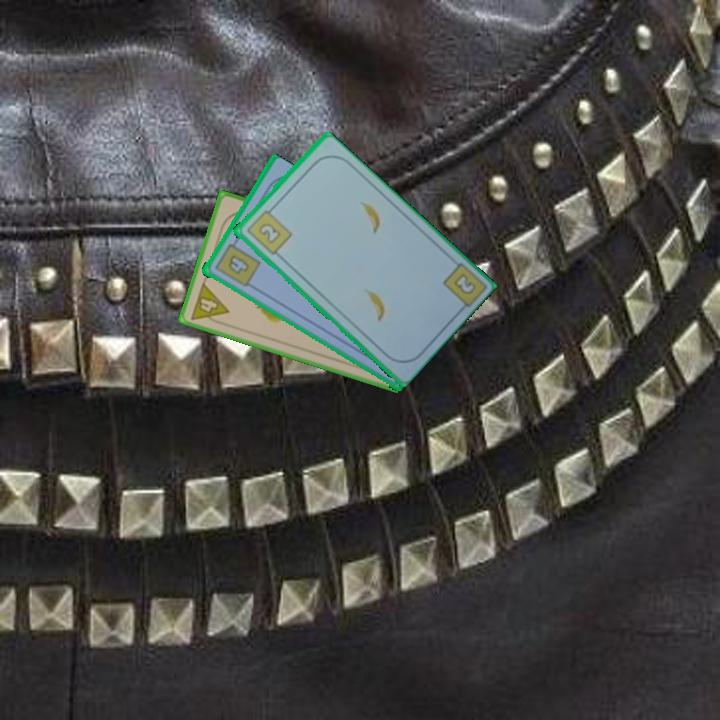2b: (242, 203, 294, 258), (450, 270, 479, 298)
4b: (211, 236, 263, 290)
4p: (187, 279, 232, 329)
